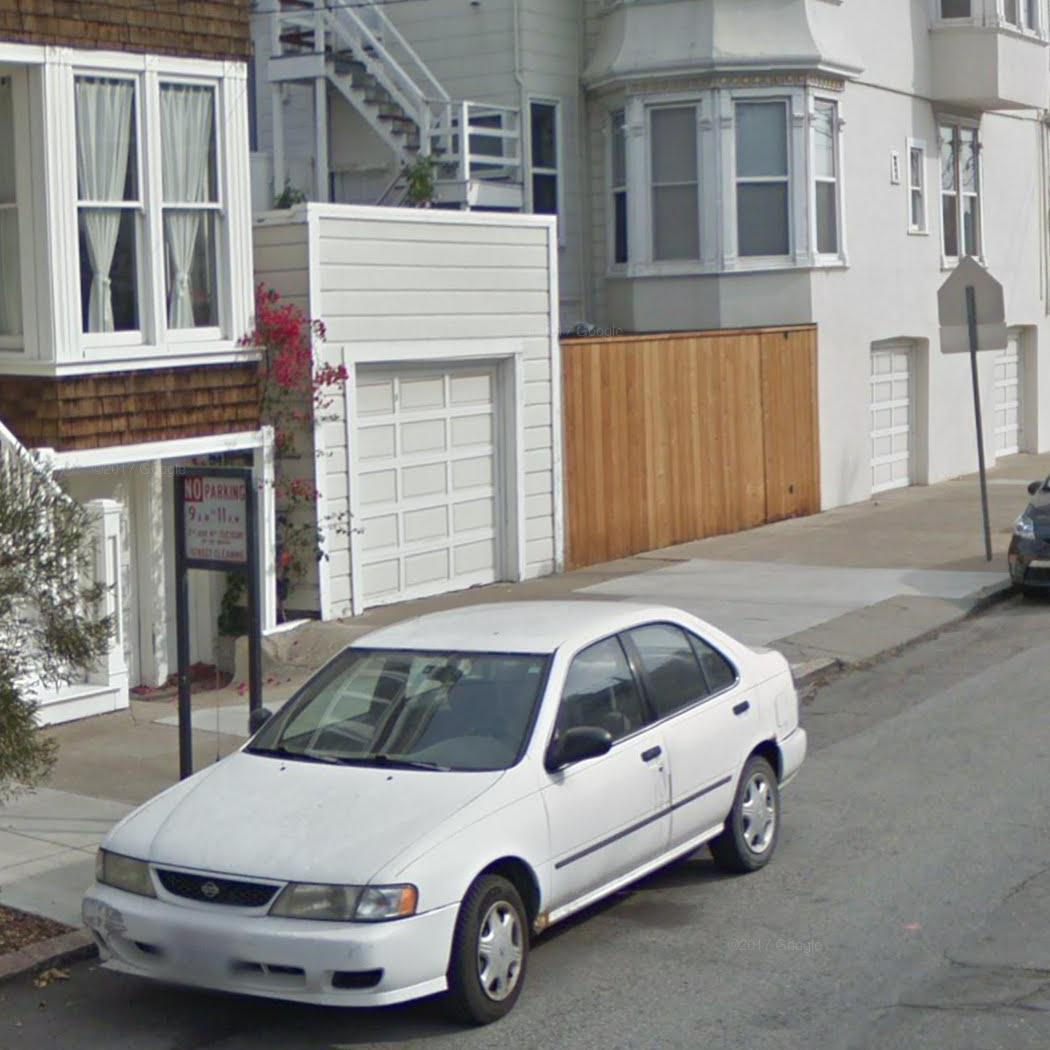No Parking: (161, 462, 264, 574)
